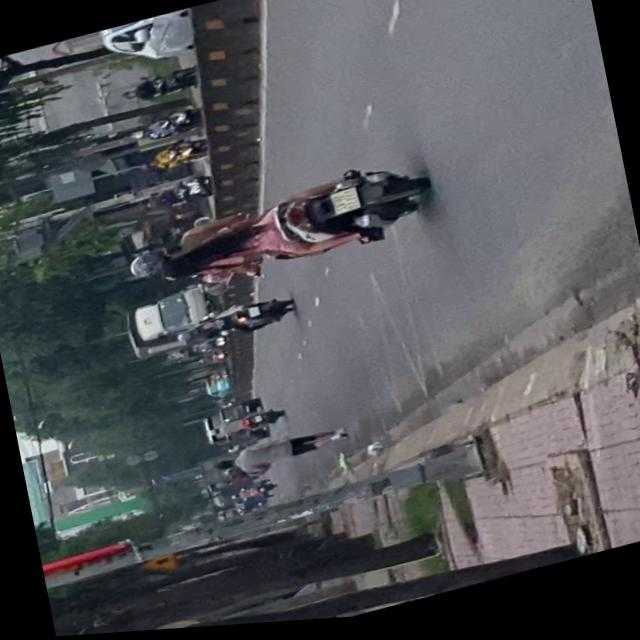helmet: (126, 245, 174, 282)
licenseplate: (116, 154, 437, 309)
motorcyclist: (156, 248, 206, 285)
nohelmet: (329, 191, 361, 220)
